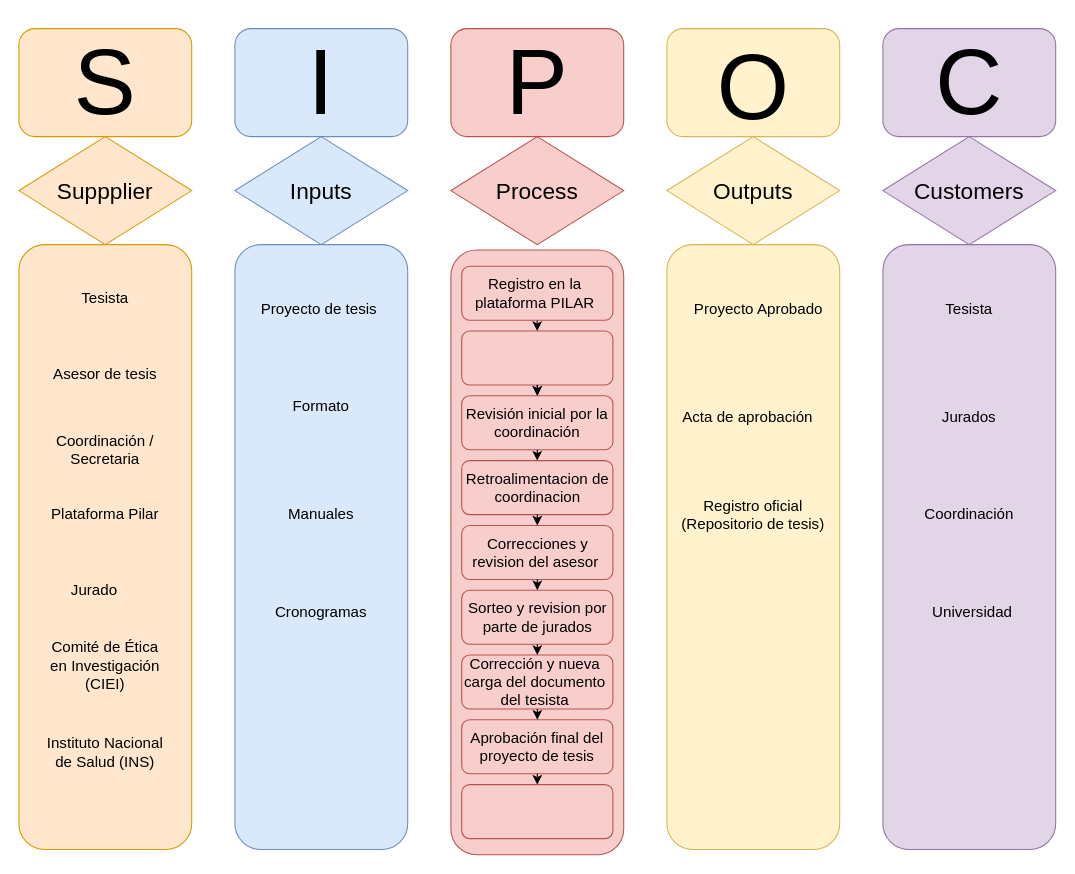
Some shapes in this 1075 by 874 pixel diagram are drawn without their labels. Each missing label, with the centre of its shape:
"Carga y envió del borrador de tesis" goes at point 537,357.
"Cierre del proceso" goes at point 537,811.
